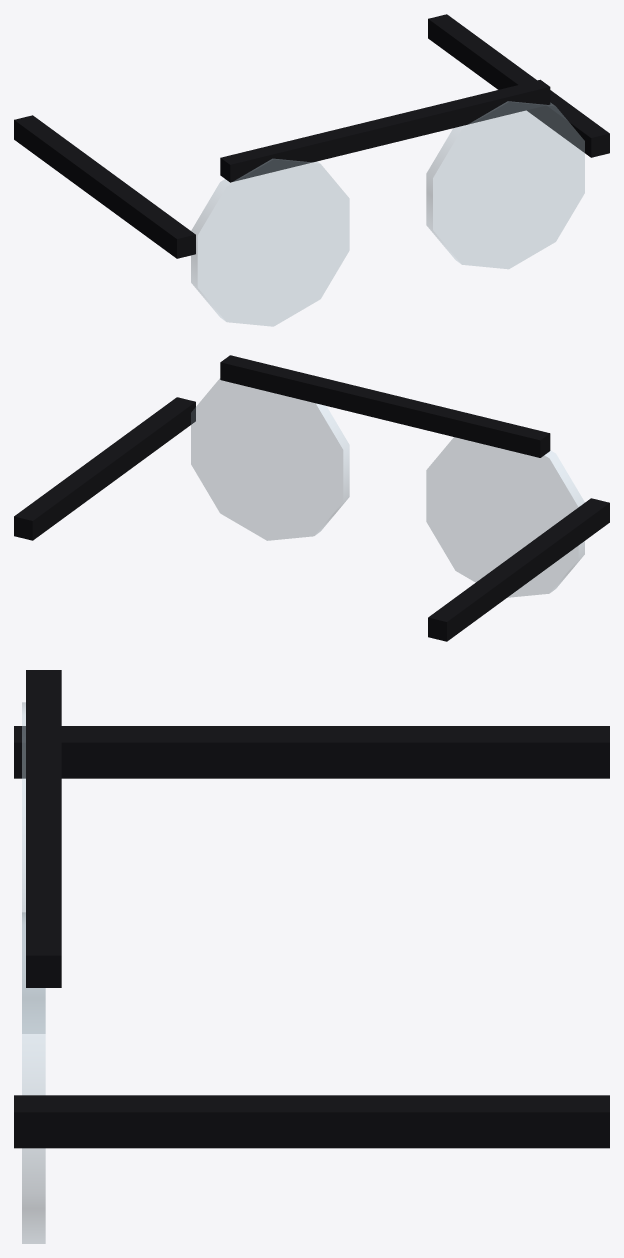
Rendered from person-glasses.glb.
3 renders of one model, top to bottom at view 1: azimuth 30°, elevation 25°; view 2: azimuth 150°, elevation 25°; view 3: azimuth 270°, elevation 25°, orthographic. The views are drawn at different scales.
Parts seen in each view (by area): view 1: 00_#c8dce8_noshadow_r110, 01_#101014_noshadow_r110; view 2: 00_#c8dce8_noshadow_r110, 01_#101014_noshadow_r110; view 3: 01_#101014_noshadow_r110, 00_#c8dce8_noshadow_r110.
Boxes of the visible parts, x1,y1,x2,y2 form: 00_#c8dce8_noshadow_r110: (191, 101, 584, 326); 01_#101014_noshadow_r110: (14, 14, 609, 258); 00_#c8dce8_noshadow_r110: (191, 379, 584, 597); 01_#101014_noshadow_r110: (14, 355, 609, 641); 01_#101014_noshadow_r110: (14, 670, 609, 1148); 00_#c8dce8_noshadow_r110: (22, 702, 45, 1243).
Size of the model in its own units: 0.46 by 0.174 by 0.3.
